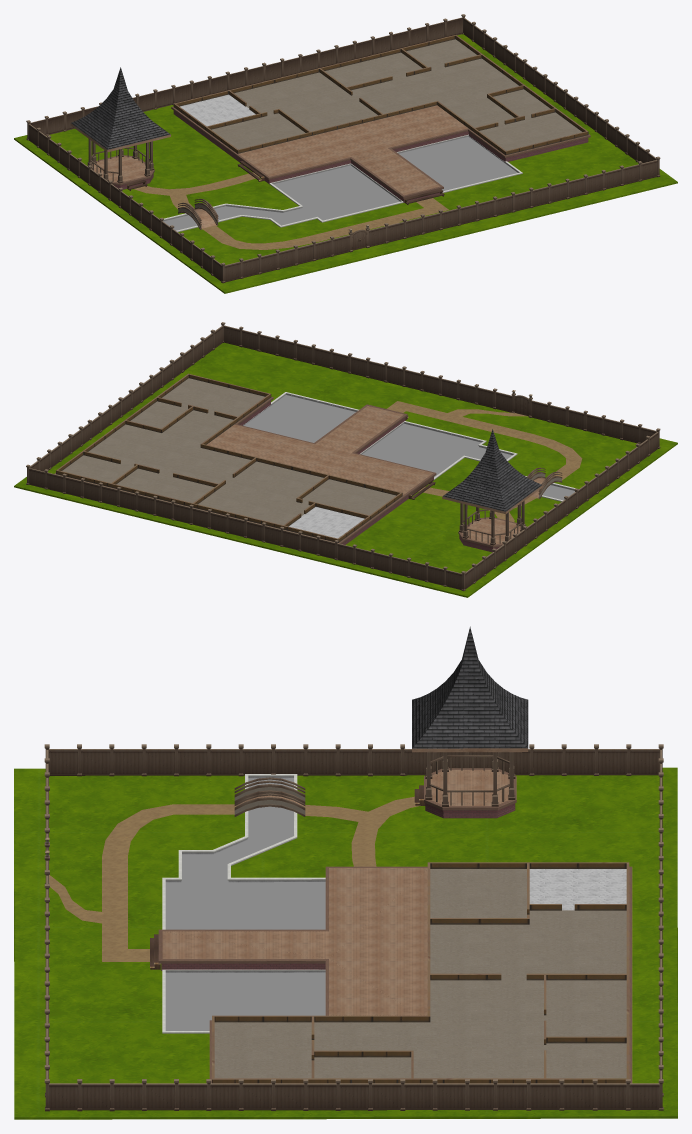
File: rixi_1fban.FBX
3 views of the same model, one above another, from view 1: azimuth 30°, elevation 25°; view 2: azimuth 150°, elevation 25°; view 3: azimuth 270°, elevation 25° (orthographic). The views are drawn at different scales.
Parts seen in each view (by area): view 1: DrawCall_1481, Line006, DrawCall_1758, DrawCall_1749, DrawCall_1748, Group010, Object018, Line001, DrawCall_1709, Line008, DrawCall_1731, DrawCall_1757 (+2 smaller); view 2: DrawCall_1481, Line006, DrawCall_1758, DrawCall_1748, DrawCall_1749, Group010, Object018, DrawCall_1709, Line008, Line001, DrawCall_1757, DrawCall_1731 (+2 smaller); view 3: DrawCall_1481, DrawCall_1758, Line006, DrawCall_1748, DrawCall_1749, Group010, Line008, DrawCall_1709, Object018, Line001, DrawCall_1757, DrawCall_1731 (+5 smaller).
Boxes of the visible parts, box(x1,y1,x2,y2) form: DrawCall_1481: box(14, 34, 677, 293); Line006: box(28, 17, 657, 282); DrawCall_1758: box(211, 39, 582, 150); DrawCall_1749: box(163, 137, 517, 230); DrawCall_1748: box(238, 105, 467, 195); Group010: box(173, 35, 588, 155); Object018: box(26, 14, 660, 283); Line001: box(171, 106, 590, 202); DrawCall_1709: box(71, 67, 170, 149); Line008: box(134, 172, 448, 249); DrawCall_1731: box(163, 134, 522, 232); DrawCall_1757: box(180, 94, 255, 126); DrawCall_1481: box(14, 342, 677, 597); Line006: box(29, 325, 658, 589); DrawCall_1758: box(62, 378, 395, 525); DrawCall_1748: box(206, 406, 432, 495); DrawCall_1749: box(244, 395, 574, 500); Group010: box(56, 373, 402, 542); Object018: box(26, 322, 660, 591); DrawCall_1709: box(443, 429, 542, 511); Line008: box(387, 401, 582, 521); Line001: box(54, 397, 436, 544); DrawCall_1757: box(289, 507, 364, 538); DrawCall_1731: box(243, 392, 575, 501); DrawCall_1481: box(14, 767, 677, 1119); DrawCall_1758: box(214, 869, 626, 1078); Line006: box(46, 749, 661, 1110); DrawCall_1748: box(162, 868, 427, 1015); DrawCall_1749: box(165, 778, 325, 1030); Group010: box(212, 862, 629, 1083); Line008: box(49, 796, 420, 961); DrawCall_1709: box(412, 626, 528, 748); Object018: box(44, 744, 663, 1111); Line001: box(158, 866, 632, 1083); DrawCall_1757: box(529, 869, 626, 910); DrawCall_1731: box(162, 774, 325, 1033).
Bounding box in the file's own units: 5140 × 1367 × 4133.
